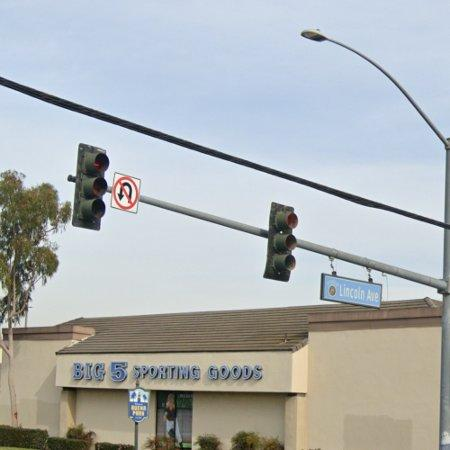traffic lights: (70, 143, 109, 232), (264, 203, 297, 286)
